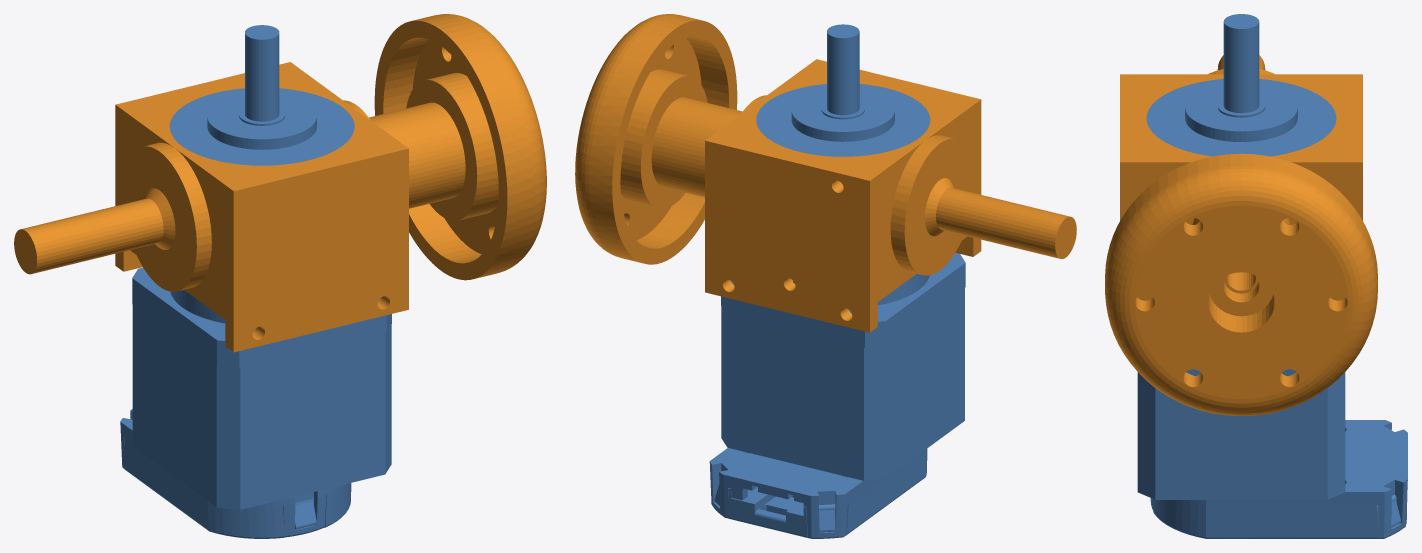
3 renders of one model, left to right at view 1: azimuth 30°, elevation 25°; view 2: azimuth 150°, elevation 25°; view 3: azimuth 270°, elevation 25°, orthographic. The views are drawn at different scales.
Parts seen in each view (by area): view 1: J6 housing (×3), Motor 14HS13-0804D-PG19 (×2), J6 bearing cap, Encoder AMT-102V (×2); view 2: J6 housing (×3), Motor 14HS13-0804D-PG19 (×2), J6 bearing cap, Encoder AMT-102V (×2); view 3: J6 bearing cap, Motor 14HS13-0804D-PG19 (×2), Encoder AMT-102V (×2), J6 housing (×2).
Boxes of the visible parts, box(x1,y1,x2,y2) form: J6 housing (×3): box(14, 62, 465, 352); Motor 14HS13-0804D-PG19 (×2): box(132, 25, 391, 509); J6 bearing cap: box(374, 14, 546, 280); Encoder AMT-102V (×2): box(120, 409, 351, 538); J6 housing (×3): box(651, 59, 1076, 332); Motor 14HS13-0804D-PG19 (×2): box(721, 24, 965, 480); J6 bearing cap: box(575, 14, 737, 264); Encoder AMT-102V (×2): box(709, 448, 927, 538); J6 bearing cap: box(1105, 153, 1377, 415); Motor 14HS13-0804D-PG19 (×2): box(1137, 14, 1345, 499); Encoder AMT-102V (×2): box(1150, 420, 1407, 538); J6 housing (×2): box(1120, 74, 1362, 300).
Size of the model in its own units: 0.0931 by 0.051 by 0.0898.
